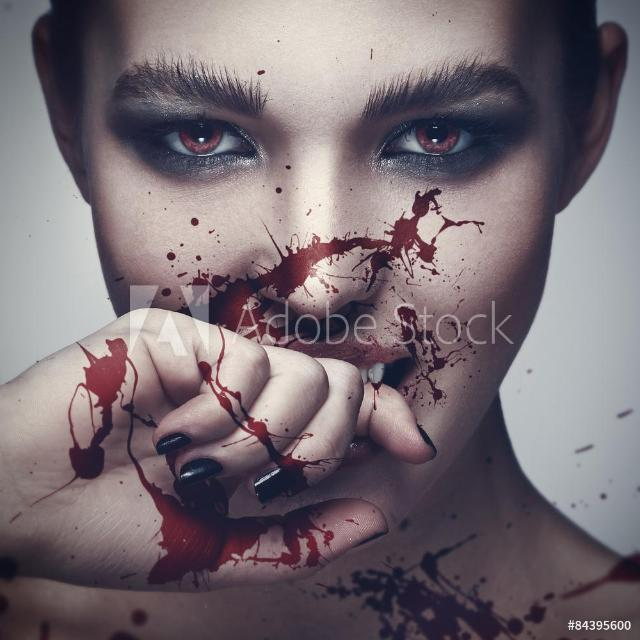blood: (56, 321, 361, 590), (181, 199, 490, 375), (329, 522, 570, 640)
